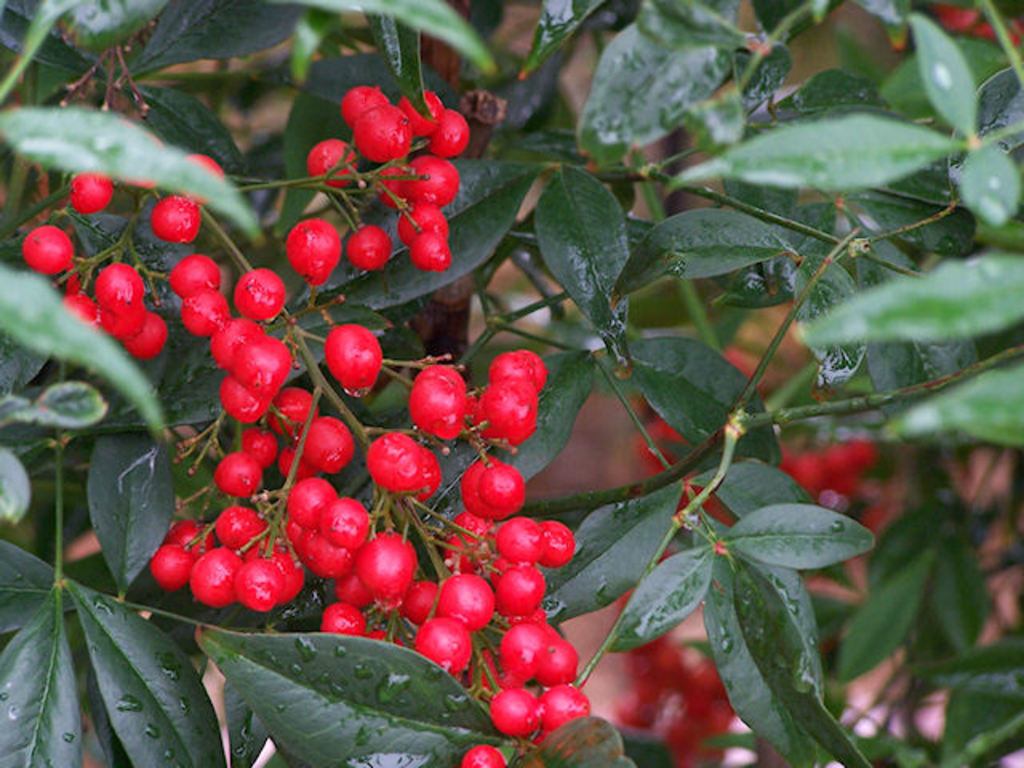person: (280, 9, 479, 220)
